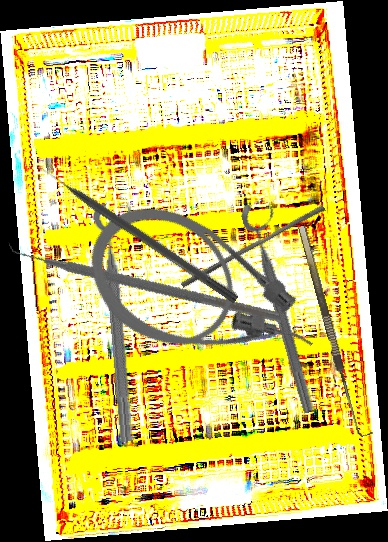Cannula: (64, 179, 337, 416)
Chopper: (3, 154, 282, 396)
Fixation Ring: (238, 198, 332, 416), (92, 201, 153, 443)
Hook Surgical: (297, 222, 374, 439)
Pusher: (36, 160, 241, 305), (180, 199, 326, 294)
